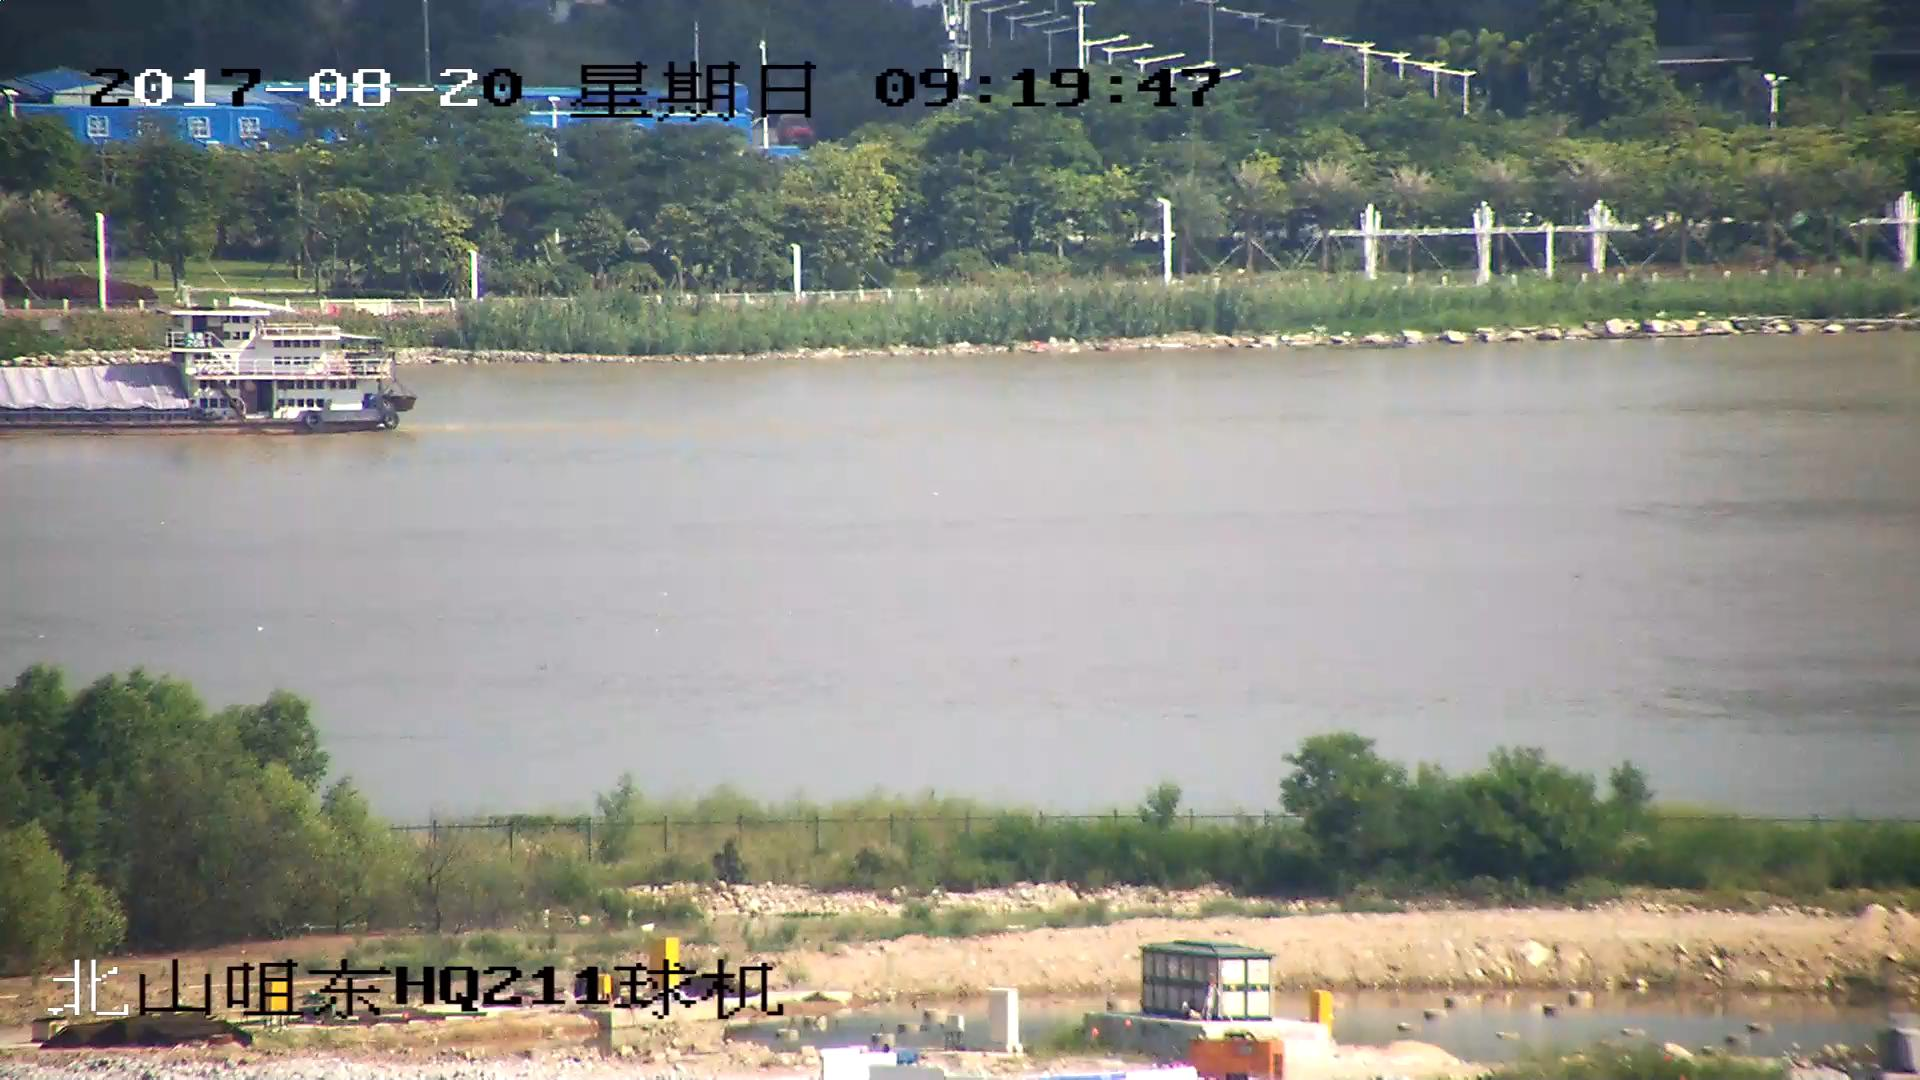general cargo ship: (1, 301, 415, 436)
